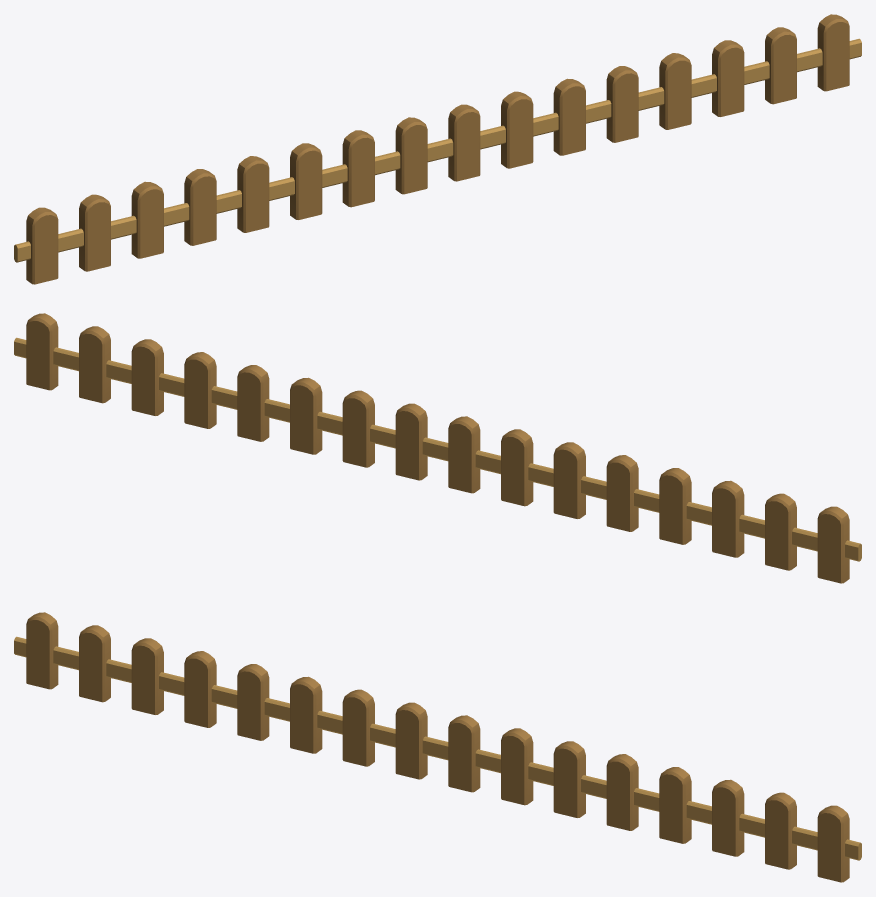
File: Fence_Middle16.gltf
3 views of the same model, one above another, from view 1: azimuth 30°, elevation 25°; view 2: azimuth 150°, elevation 25°; view 3: azimuth 330°, elevation 25° (orthographic).
Visible parts, largest first — view 1: Fence_Middle_16; view 2: Fence_Middle_16; view 3: Fence_Middle_16.
Boxes of the visible parts, <box> form: Fence_Middle_16: <box>14,14,861,284</box>; Fence_Middle_16: <box>14,313,861,583</box>; Fence_Middle_16: <box>14,612,861,882</box>.
Bounding box in the file's own units: 16 × 1.25 × 0.2644.
